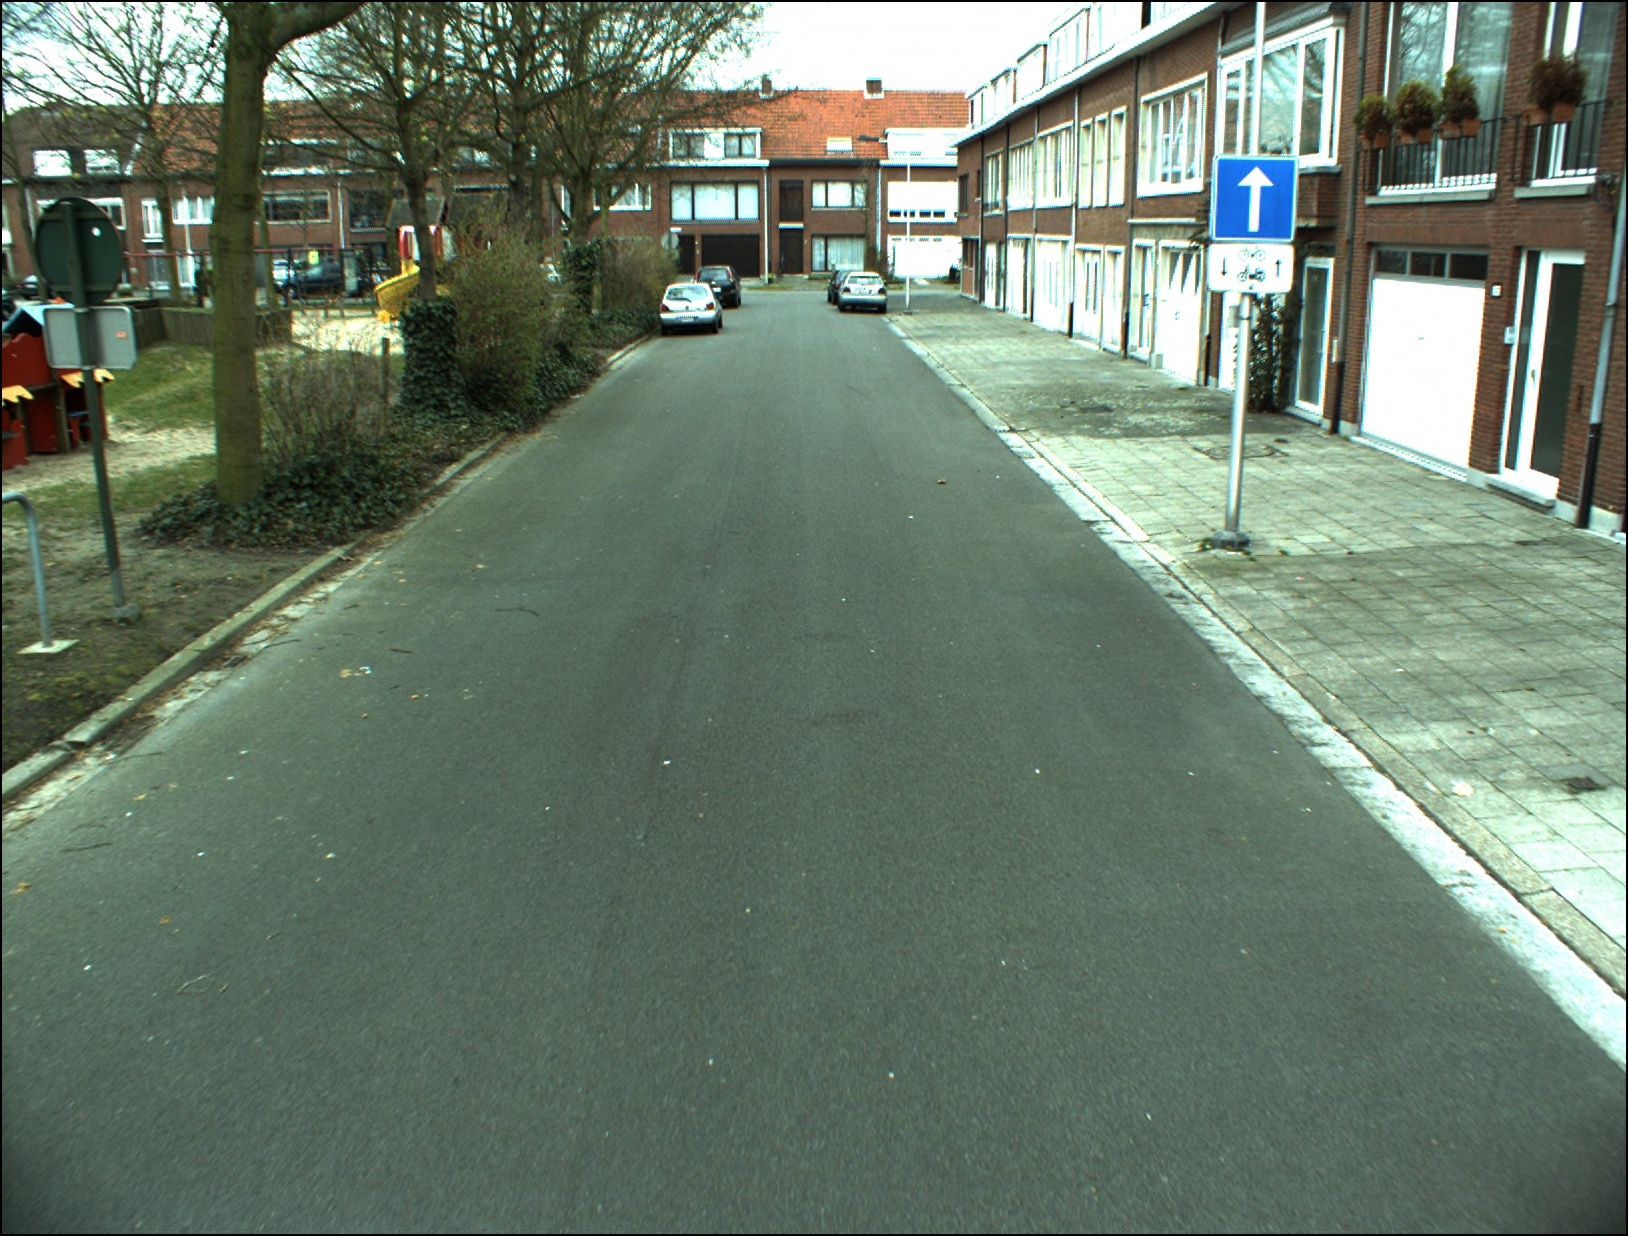oneway: (1213, 154, 1296, 241)
